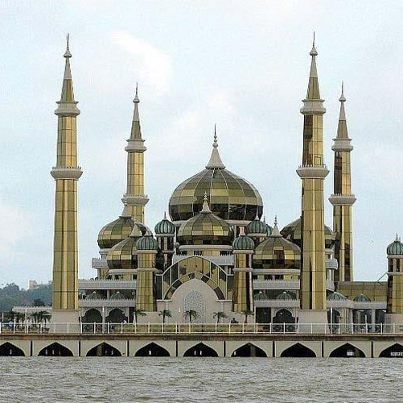Mosque: (19, 26, 388, 319)
